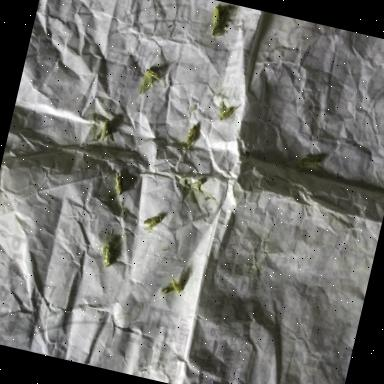pbw: (135, 66, 168, 100), (206, 3, 234, 43), (92, 118, 118, 147), (138, 210, 164, 236), (215, 99, 236, 126), (98, 242, 116, 272), (160, 276, 184, 298), (110, 170, 128, 198), (298, 152, 323, 172), (182, 124, 198, 152), (186, 178, 202, 192)
